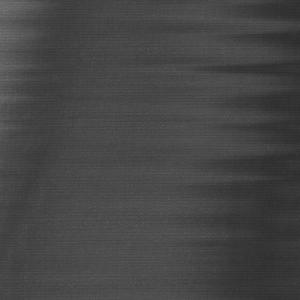Wrinkle: (172, 1, 300, 300), (1, 1, 112, 255)
